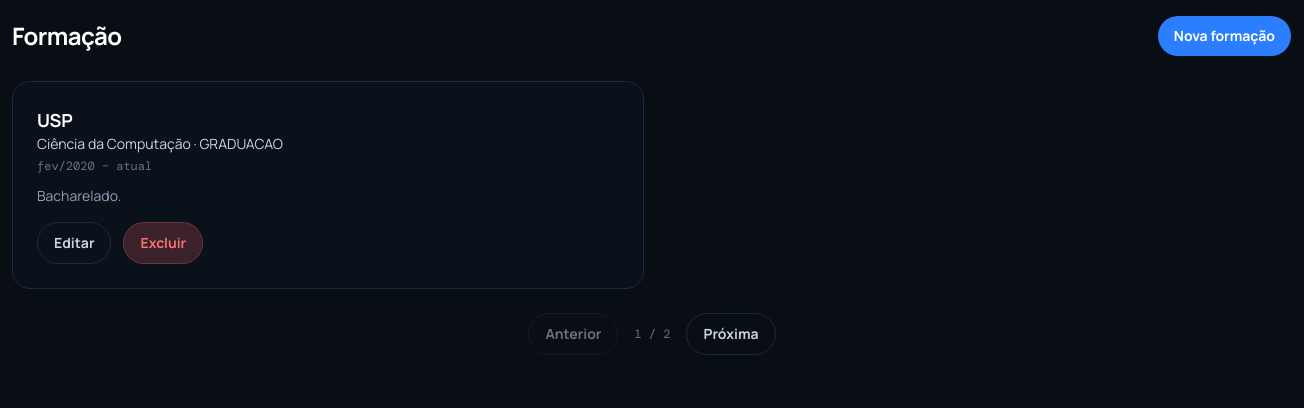
Scenario: EducationsSection › shows an error when the page fails to load
The image size is (1304, 408).
Click the button "Próxima" at {"x": 731, "y": 334}, box [686, 313, 776, 355]
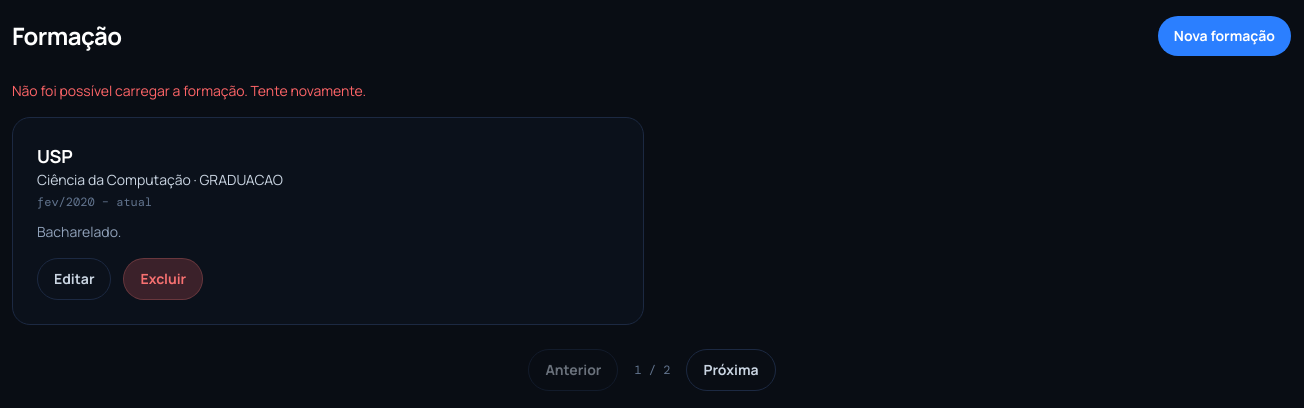
Now the text "Não foi possível carregar a formação. Tente novamente." is shown, box [12, 81, 366, 100]
